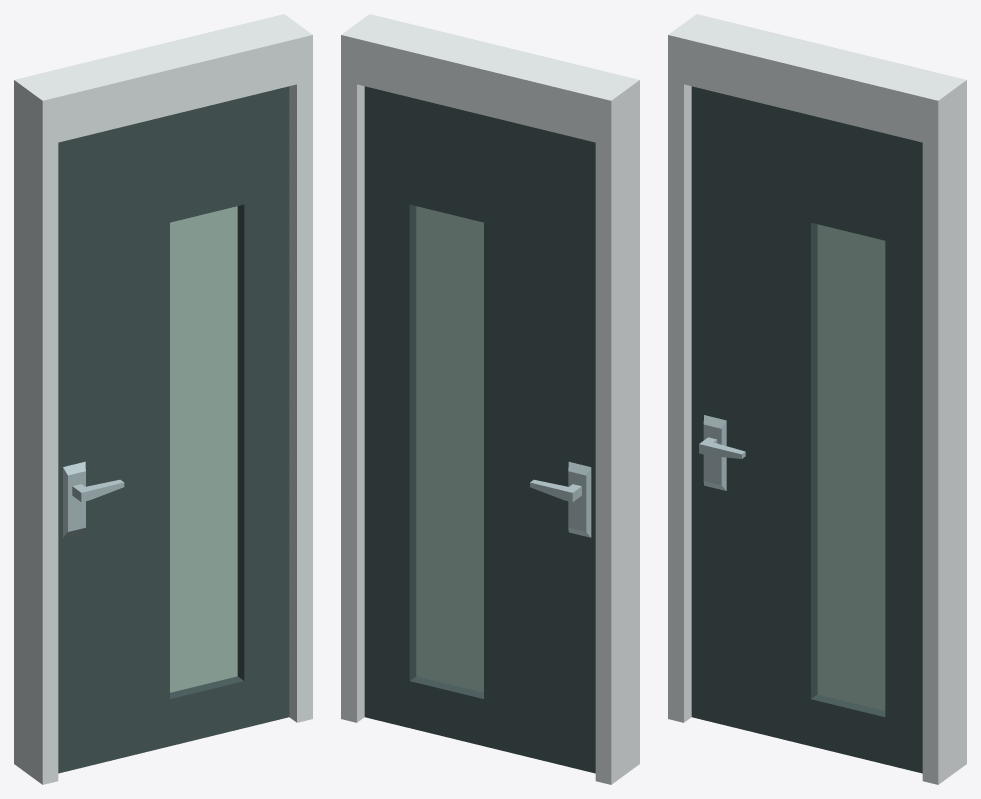
The model's file is doorwayFront.obj.
3 renders of one model, left to right at view 1: azimuth 30°, elevation 25°; view 2: azimuth 150°, elevation 25°; view 3: azimuth 330°, elevation 25°, orthographic.
Visible parts, largest first — view 1: doorwayFront; view 2: doorwayFront; view 3: doorwayFront.
Part boxes in pixels (box(x1,y1,x2,y2)): doorwayFront: box(14, 14, 312, 784); doorwayFront: box(341, 14, 639, 784); doorwayFront: box(668, 14, 966, 784).
Size of the model in its own units: 0.486 by 1.18 by 0.1134.
